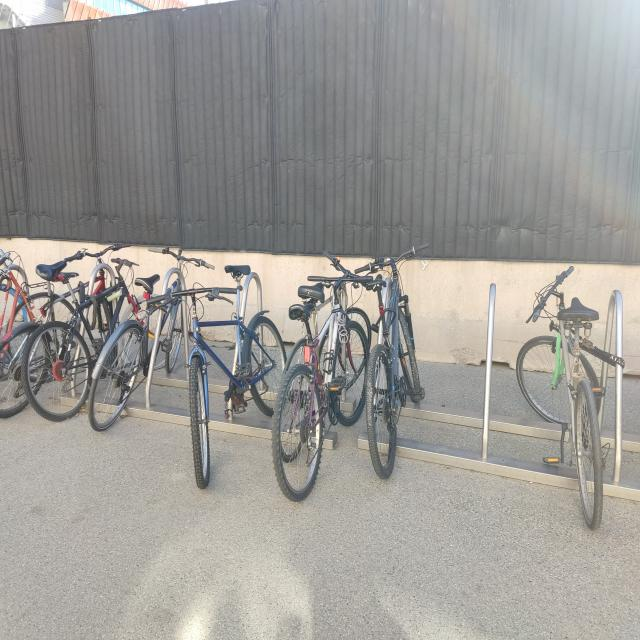Bicycle: (512, 258, 632, 539), (168, 243, 294, 491), (270, 258, 376, 515), (359, 207, 453, 493), (92, 234, 206, 437), (0, 247, 96, 424), (36, 260, 133, 424), (0, 224, 31, 333)
